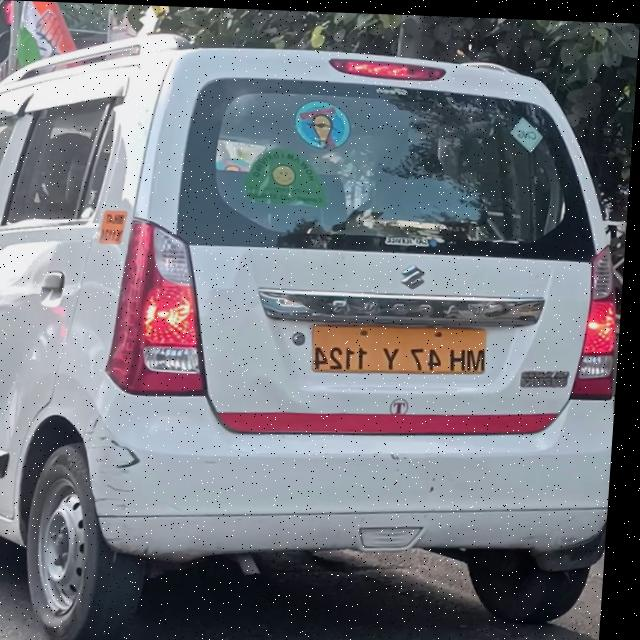plate: (314, 317, 489, 377)
